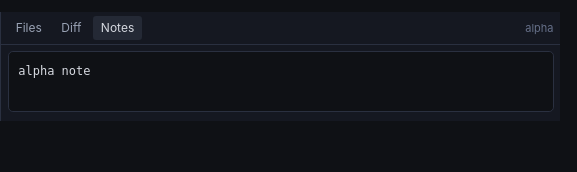
drawer chrome › switches tabs through the layout store, and each one mounts its real tab
The image size is (577, 172).
Click the button "Files".
click(29, 28)  # box [8,16,50,40]
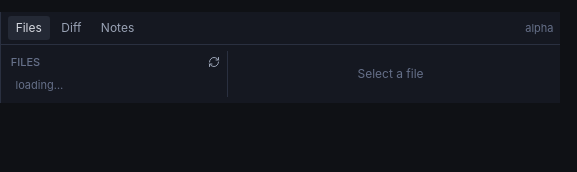
Result: the element showing "loading…" is shown at [16,78,63,92]
Result: the text box is gone
Click the button "Diff".
click(71, 28)  # box [53,16,89,40]
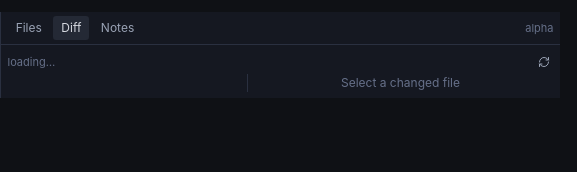
Result: the button titled "Refresh" is shown at [534,53,554,72]
Click the button "Notes".
click(118, 28)  # box [93,16,142,40]
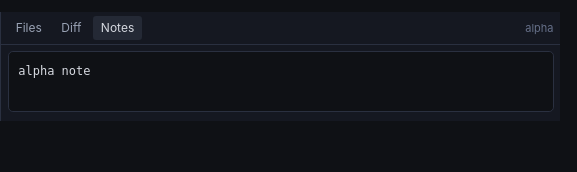
Result: the text box is shown at [8,51,554,112]
